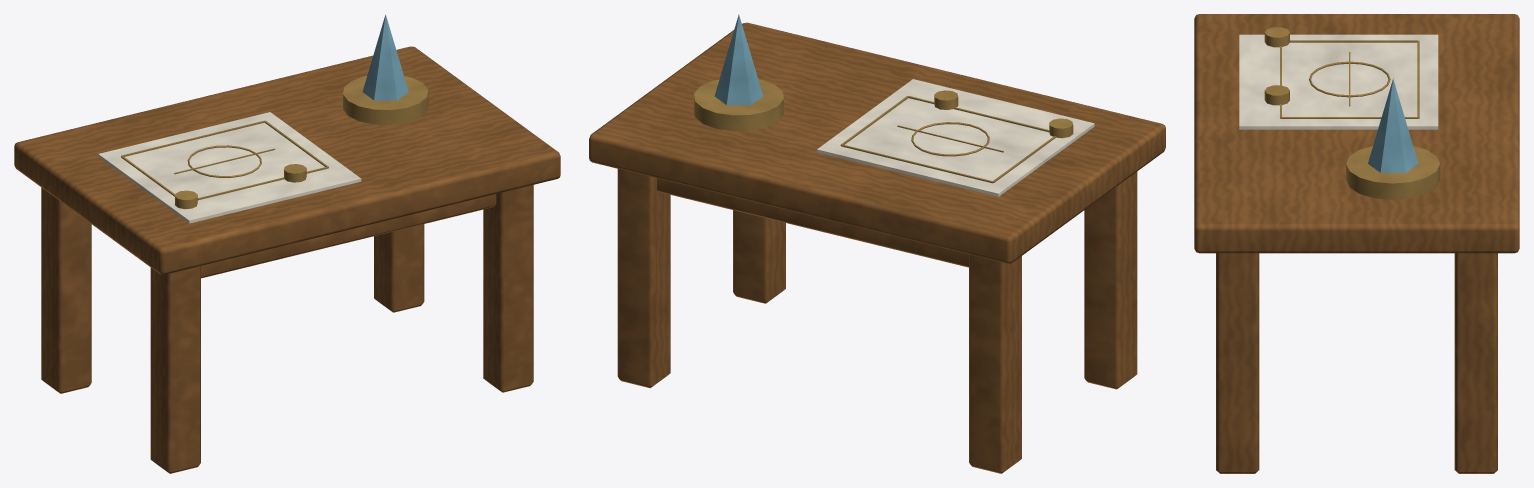
File: Furn_WSTable.fbx
The picture shows the model from 3 angles, left to right: view 1: azimuth 30°, elevation 25°; view 2: azimuth 150°, elevation 25°; view 3: azimuth 270°, elevation 25°; orthographic projection. The views are drawn at different scales.
Parts seen in each view (by area): view 1: Furn_WSTable_Mesh; view 2: Furn_WSTable_Mesh; view 3: Furn_WSTable_Mesh.
Part boxes in pixels (x1,y1,x2,y2): Furn_WSTable_Mesh: (14,14,560,473); Furn_WSTable_Mesh: (589,14,1165,473); Furn_WSTable_Mesh: (1194,14,1519,473).
Size of the model in its own units: 1.4 by 1.1 by 0.9.
Materials: 4 (4 with a texture image).
